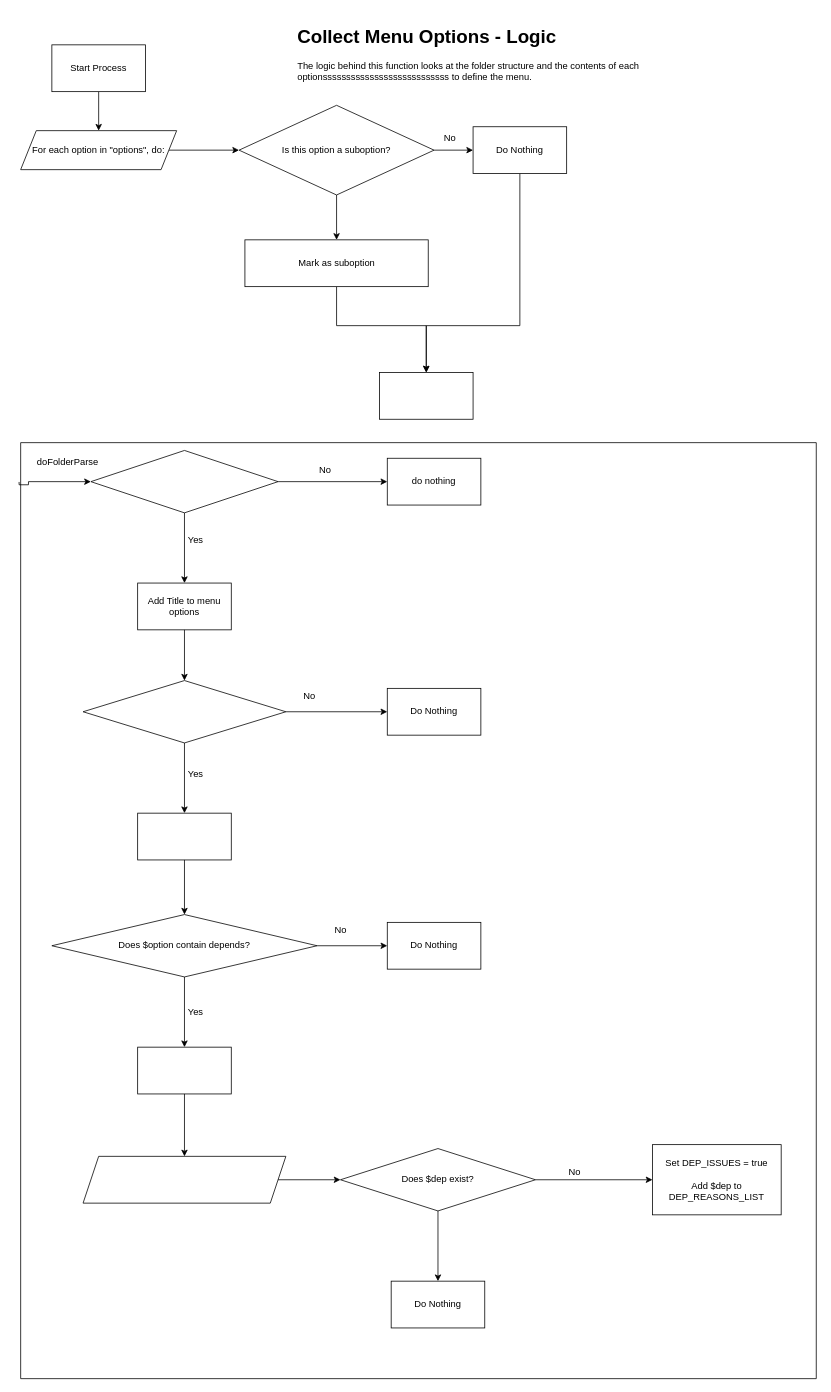
Some shapes in this 831 by 1392 pixel diagram are drawn without their labels. Each missing label, with the centre of its shape:
"Does $option contain a link?" goes at point (184, 711).
"does $option contain a title?" goes at point (184, 481).
"doOptionParse" goes at point (426, 395).
"for each dep in $dependencies_list, do:" goes at point (184, 1179).
"Populate link variable for menu option" goes at point (184, 836).
"read command into $dependencies list" goes at point (184, 1070).
